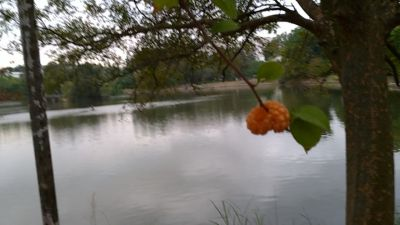eggs: (244, 97, 292, 136)
